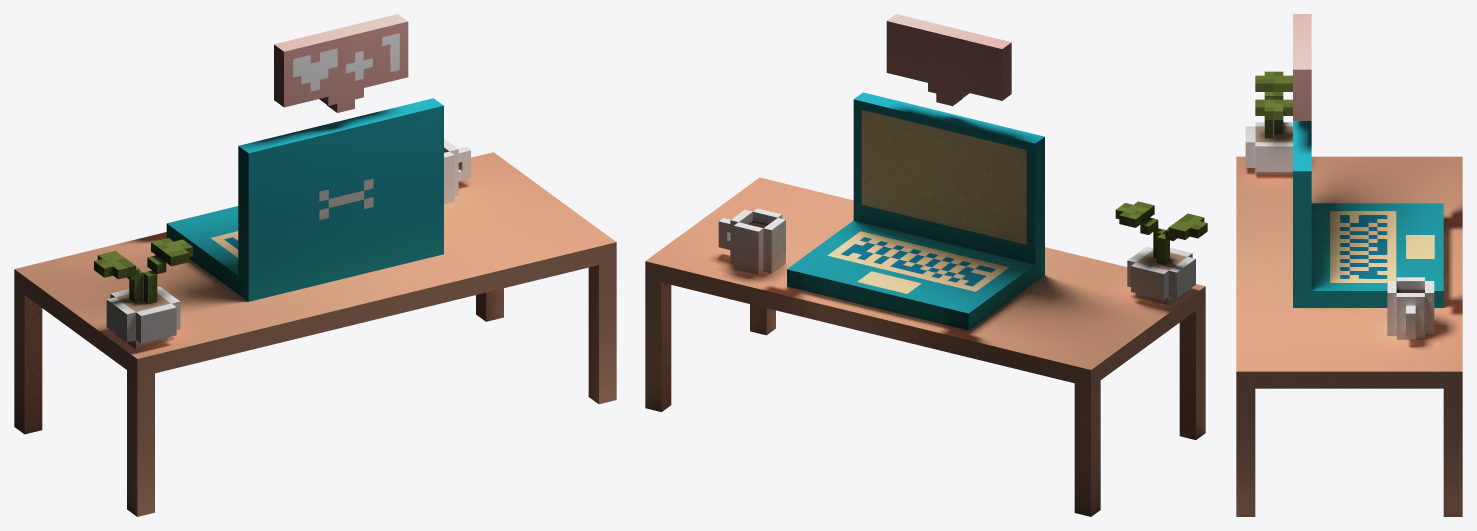
File: table1.glb
3 views of the same model, side by side, from view 1: azimuth 30°, elevation 25°; view 2: azimuth 150°, elevation 25°; view 3: azimuth 270°, elevation 25° (orthographic). The views are drawn at different scales.
Visible parts, largest first — view 1: main; view 2: main; view 3: main.
Part boxes in pixels (x1,y1,x2,y2): main: [14, 14, 616, 516]; main: [645, 14, 1207, 516]; main: [1236, 14, 1462, 516].
Size of what is drawn, in the model's own units: 5.6 by 4.3 by 2.4.
1 material, 1 textured.
